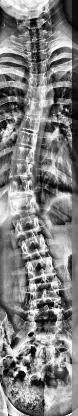Vertebrae: (26, 323, 66, 344), (28, 255, 58, 281), (28, 306, 65, 326), (30, 284, 62, 306), (17, 238, 55, 256), (8, 177, 38, 197), (9, 196, 41, 214), (14, 216, 44, 234), (12, 146, 42, 164), (18, 131, 44, 151), (23, 86, 50, 104), (22, 116, 48, 134), (11, 162, 39, 178), (27, 59, 51, 75), (26, 46, 50, 62), (26, 76, 50, 90), (26, 104, 46, 118)
